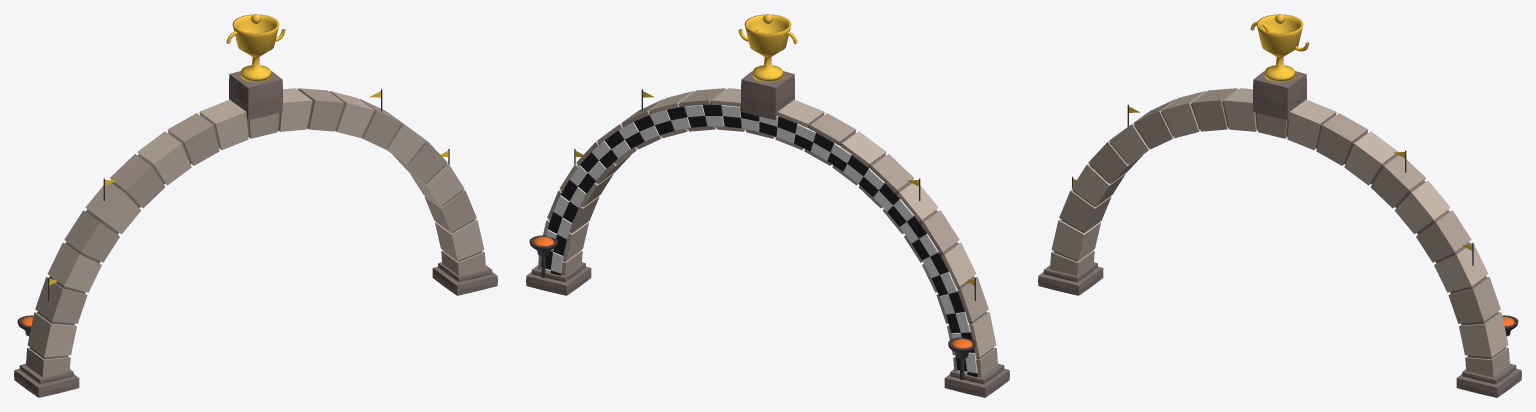
The model's file is SkateFinishArch.obj.
3 renders of one model, left to right at view 1: azimuth 30°, elevation 25°; view 2: azimuth 150°, elevation 25°; view 3: azimuth 330°, elevation 25°, orthographic.
Visible parts, largest first — view 1: StoneB, Stone, Trim, Gold; view 2: StoneB, Stone, Light, Dark, Trim, Gold, Bowl; view 3: StoneB, Stone, Trim, Gold.
Part boxes in pixels (bbox=[...]): StoneB: bbox=[27, 88, 484, 357]; Stone: bbox=[26, 88, 485, 377]; Trim: bbox=[14, 71, 497, 397]; Gold: bbox=[226, 14, 285, 82]; StoneB: bbox=[543, 88, 996, 357]; Stone: bbox=[538, 88, 997, 377]; Light: bbox=[540, 105, 977, 374]; Dark: bbox=[541, 104, 977, 377]; Trim: bbox=[526, 71, 1009, 397]; Gold: bbox=[738, 14, 797, 82]; Bowl: bbox=[529, 235, 976, 358]; StoneB: bbox=[1051, 88, 1508, 357]; Stone: bbox=[1050, 88, 1509, 377]; Trim: bbox=[1038, 71, 1521, 397]; Gold: bbox=[1250, 14, 1309, 82].
Size of the model in its own units: 127 by 84.2 by 16.55.
